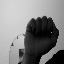a: (24, 16, 59, 43)
